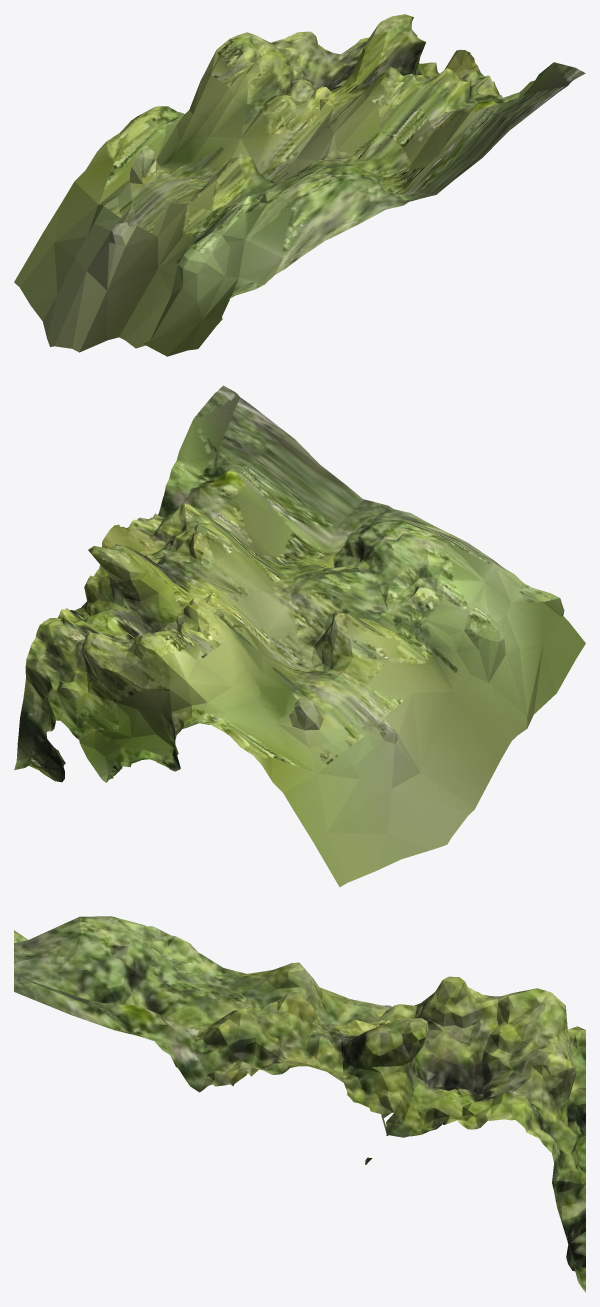
3 renders of one model, top to bottom at view 1: azimuth 30°, elevation 25°; view 2: azimuth 150°, elevation 25°; view 3: azimuth 270°, elevation 25°, orthographic. The views are drawn at different scales.
Bounding box in the file's own units: 26.11 × 18.53 × 26.11.
Materials: 4 (4 with a texture image).
